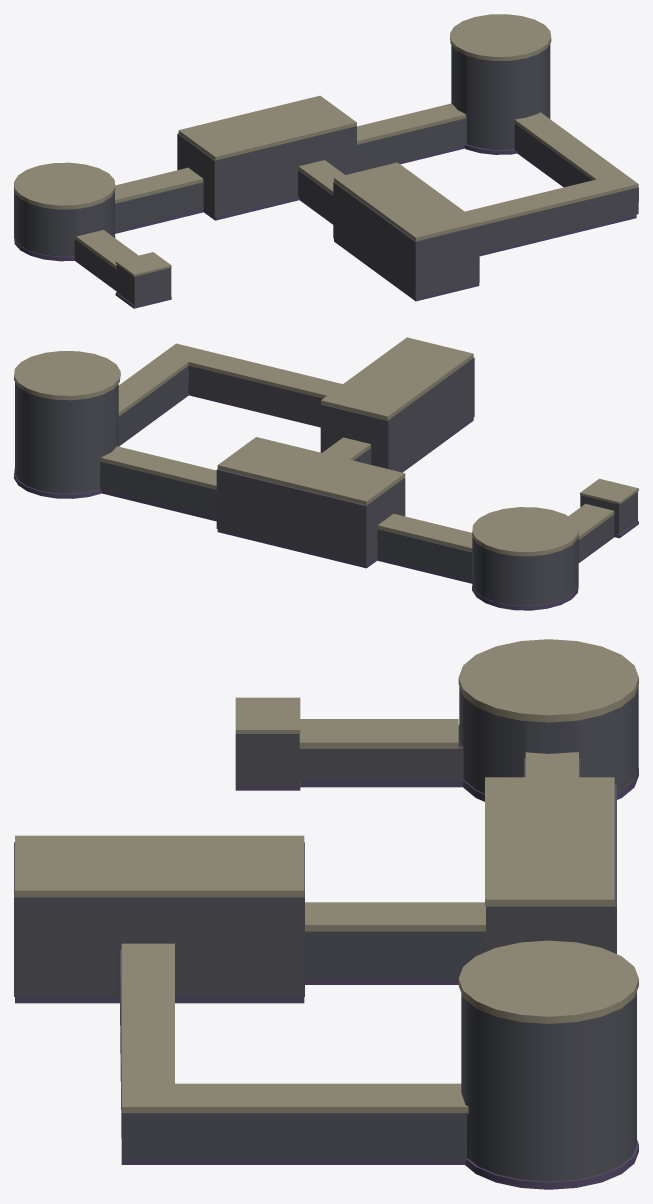
File: FBX_Testing_02_Refine.fbx
The picture shows the model from 3 angles, top to bottom: view 1: azimuth 30°, elevation 25°; view 2: azimuth 150°, elevation 25°; view 3: azimuth 270°, elevation 25°; orthographic projection. The views are drawn at different scales.
Visible parts, largest first — view 1: pCube24, pCube20, pCylinder14, pCube17 (×2), pCube18 (×2), pCube45, pCube33, pCylinder13, pCylinder11, pCylinder15, pCube42, pCube40 (+9 smaller); view 2: pCube20, pCylinder14, pCube24, pCube17 (×2), pCube18, pCube45, pCylinder13, pCube33, pCylinder11 (×2), pCylinder15, pCube42, pCube40 (+11 smaller); view 3: pCylinder14, pCube24, pCube18 (×2), pCube33, pCube45, pCube17, pCylinder11, pCylinder15, pCylinder13, pCube44, pCube20, pCube34 (+9 smaller).
Boxes of the visible parts, x1,y1,x2,y2 form: pCube24: [333, 181, 479, 298]; pCube20: [177, 126, 356, 216]; pCylinder14: [451, 44, 550, 149]; pCube17 (×2): [178, 95, 356, 220]; pCube18 (×2): [334, 162, 479, 301]; pCube45: [479, 123, 638, 252]; pCube33: [465, 112, 638, 225]; pCylinder13: [14, 187, 114, 256]; pCylinder11: [14, 162, 115, 209]; pCylinder15: [450, 14, 551, 60]; pCube42: [357, 118, 466, 171]; pCube40: [115, 182, 203, 230]; pCube20: [216, 469, 405, 565]; pCylinder14: [15, 382, 118, 493]; pCube24: [320, 357, 474, 471]; pCube17 (×2): [217, 437, 405, 568]; pCube18: [321, 337, 473, 420]; pCube45: [118, 365, 322, 444]; pCylinder13: [472, 534, 578, 605]; pCube33: [118, 343, 342, 416]; pCylinder11 (×2): [472, 507, 578, 610]; pCylinder15: [14, 351, 120, 400]; pCube42: [100, 461, 216, 517]; pCube40: [377, 529, 472, 580]; pCylinder14: [461, 992, 636, 1181]; pCube24: [14, 842, 304, 996]; pCube18 (×2): [15, 835, 304, 1003]; pCube33: [121, 943, 468, 1113]; pCube45: [119, 949, 466, 1160]; pCube17: [485, 777, 614, 905]; pCylinder11: [458, 639, 638, 722]; pCylinder15: [458, 940, 638, 1023]; pCylinder13: [459, 686, 638, 793]; pCube44: [305, 931, 485, 978]; pCube20: [486, 784, 616, 953]; pCube34: [305, 902, 485, 931].
Bounding box in the file's own units: 13393 × 2434 × 7823.
